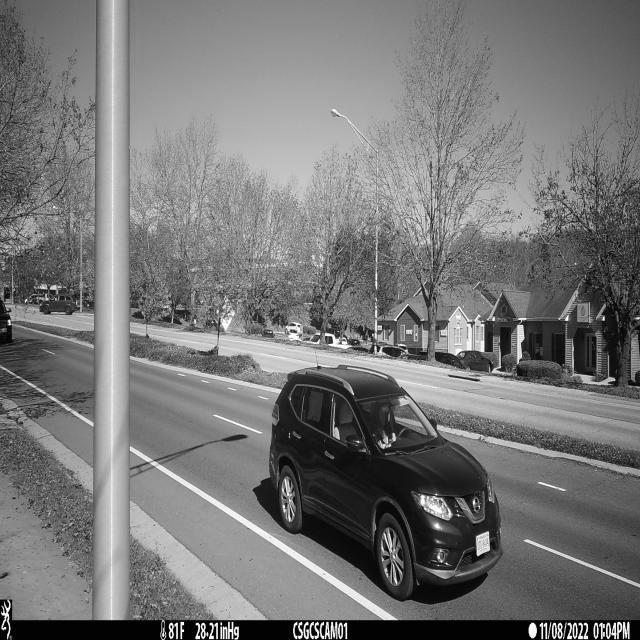SUV: (269, 364, 501, 601)
